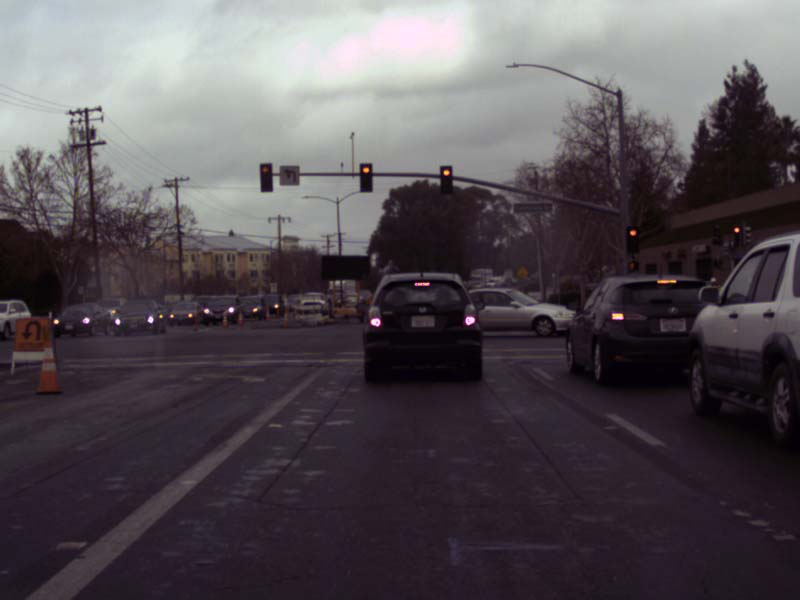Red: (259, 163, 273, 191), (440, 166, 452, 193), (360, 163, 371, 191), (627, 226, 637, 253), (733, 226, 739, 245)
